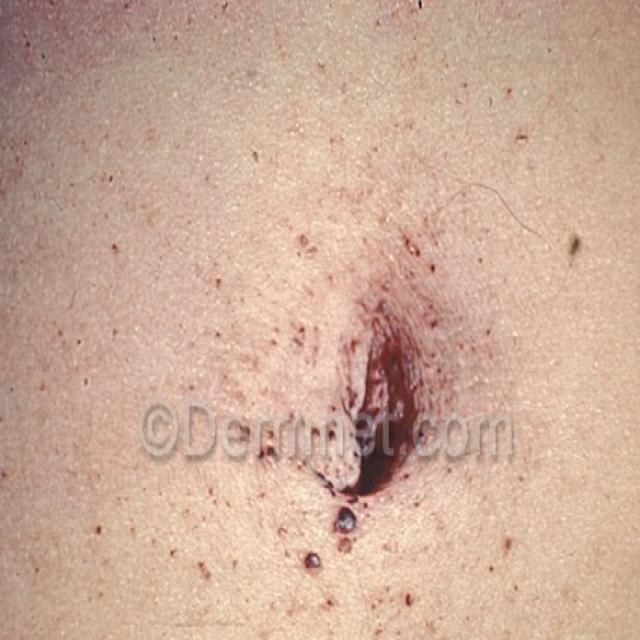Vascular Tumors: (263, 203, 490, 618)
